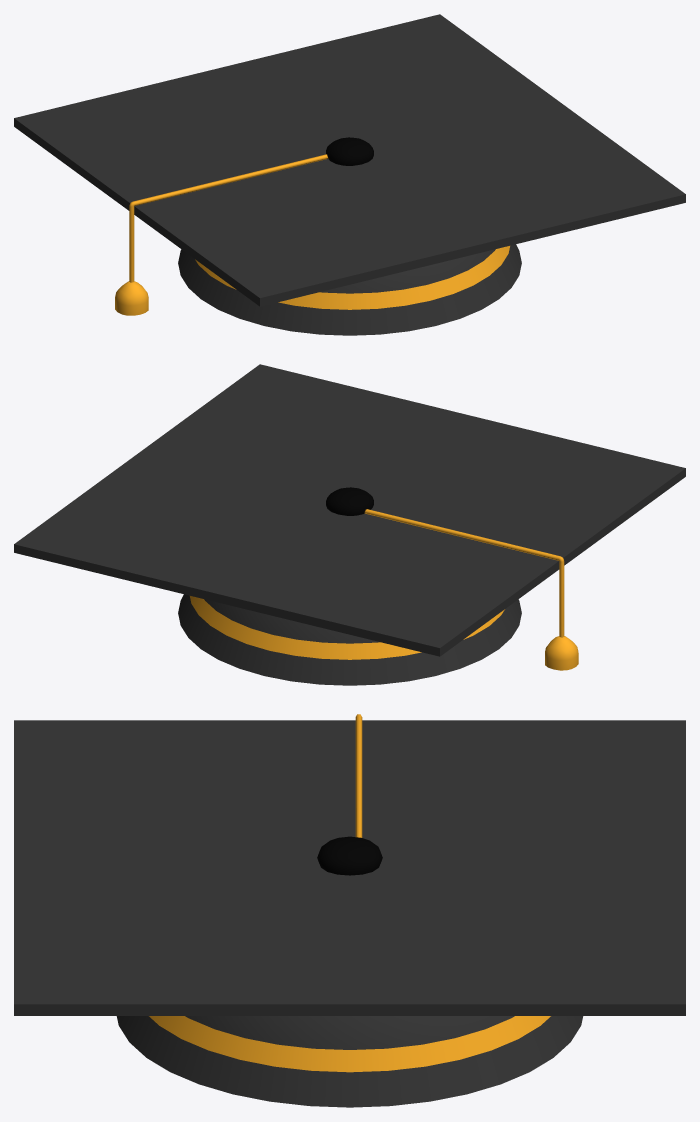
File: Graduation.fbx
3 renders of one model, top to bottom at view 1: azimuth 30°, elevation 25°; view 2: azimuth 150°, elevation 25°; view 3: azimuth 270°, elevation 25°, orthographic. The views are drawn at different scales.
Parts seen in each view (by area): view 1: GraduationHat; view 2: GraduationHat; view 3: GraduationHat.
Part boxes in pixels (x1,y1,x2,y2): GraduationHat: (14,14,685,335); GraduationHat: (14,364,685,685); GraduationHat: (14,714,685,1107).
Bounding box in the file's own units: 0.3925 × 0.103 × 0.3779.
Materials: 1 (1 with a texture image).
